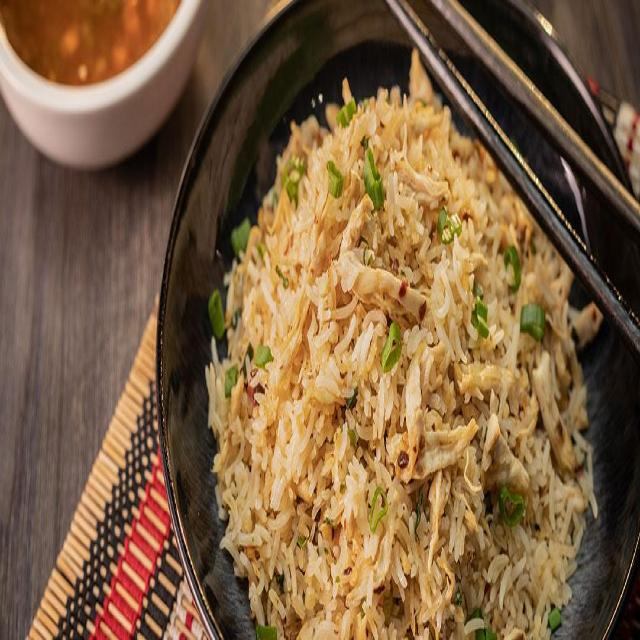Nasi Goreng: (203, 51, 601, 636)
